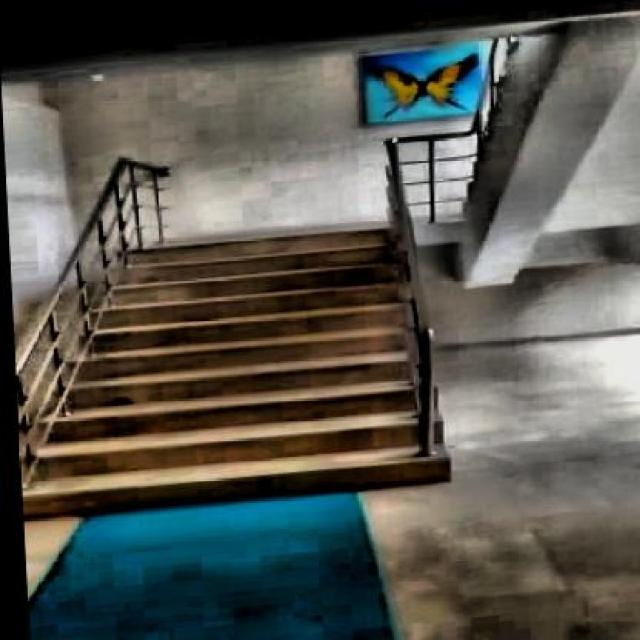stair: (9, 201, 457, 510)
